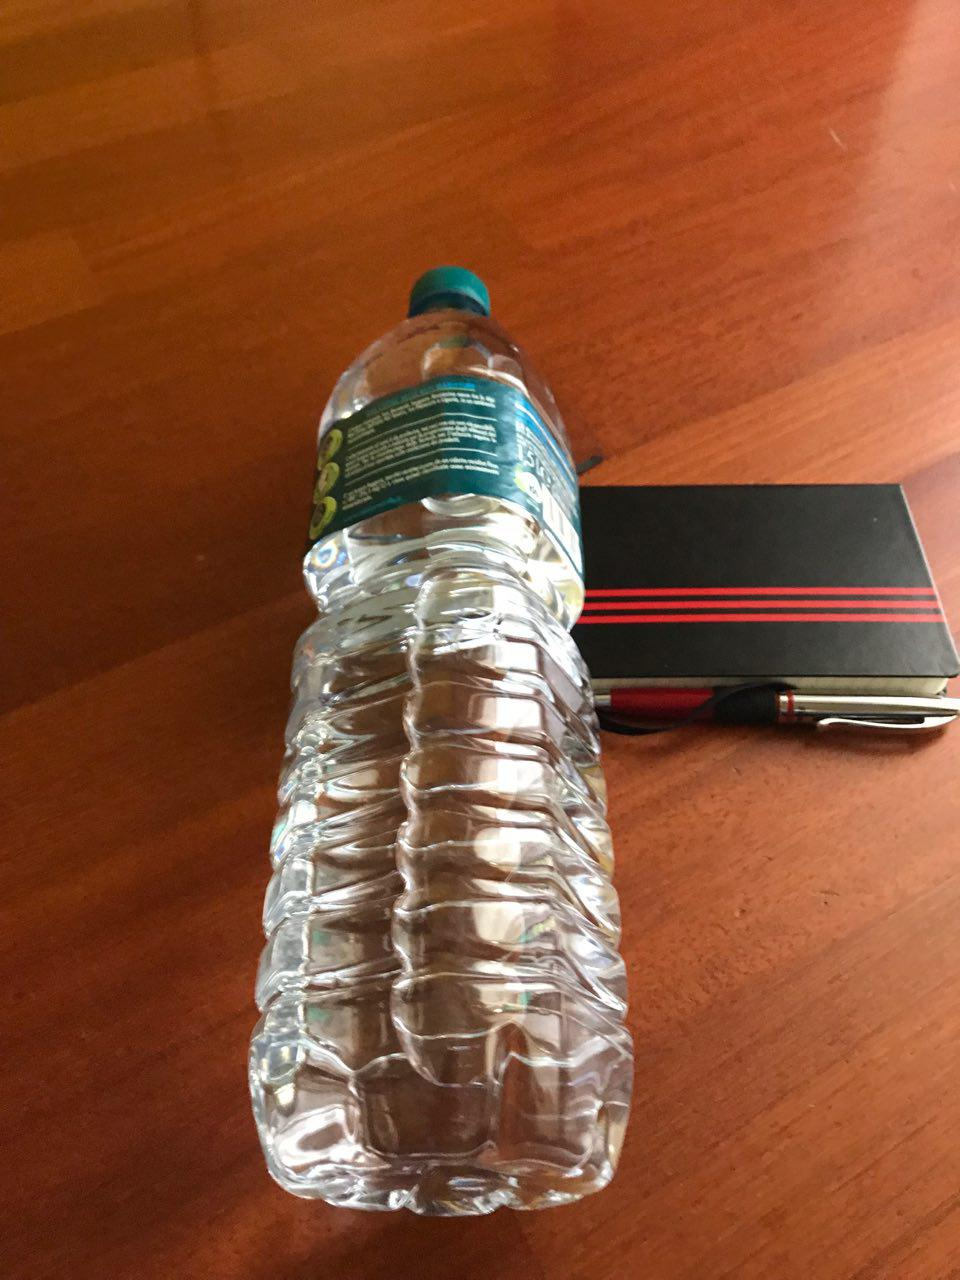san_bernardo: (244, 262, 636, 1221)
